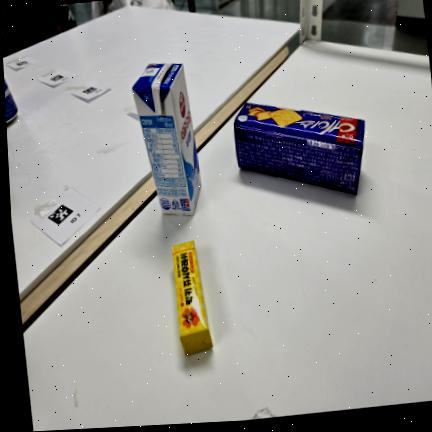cracker_ace: (234, 103, 365, 194)
gum_yellow: (172, 240, 213, 355)
milk_blue: (132, 63, 201, 215)
